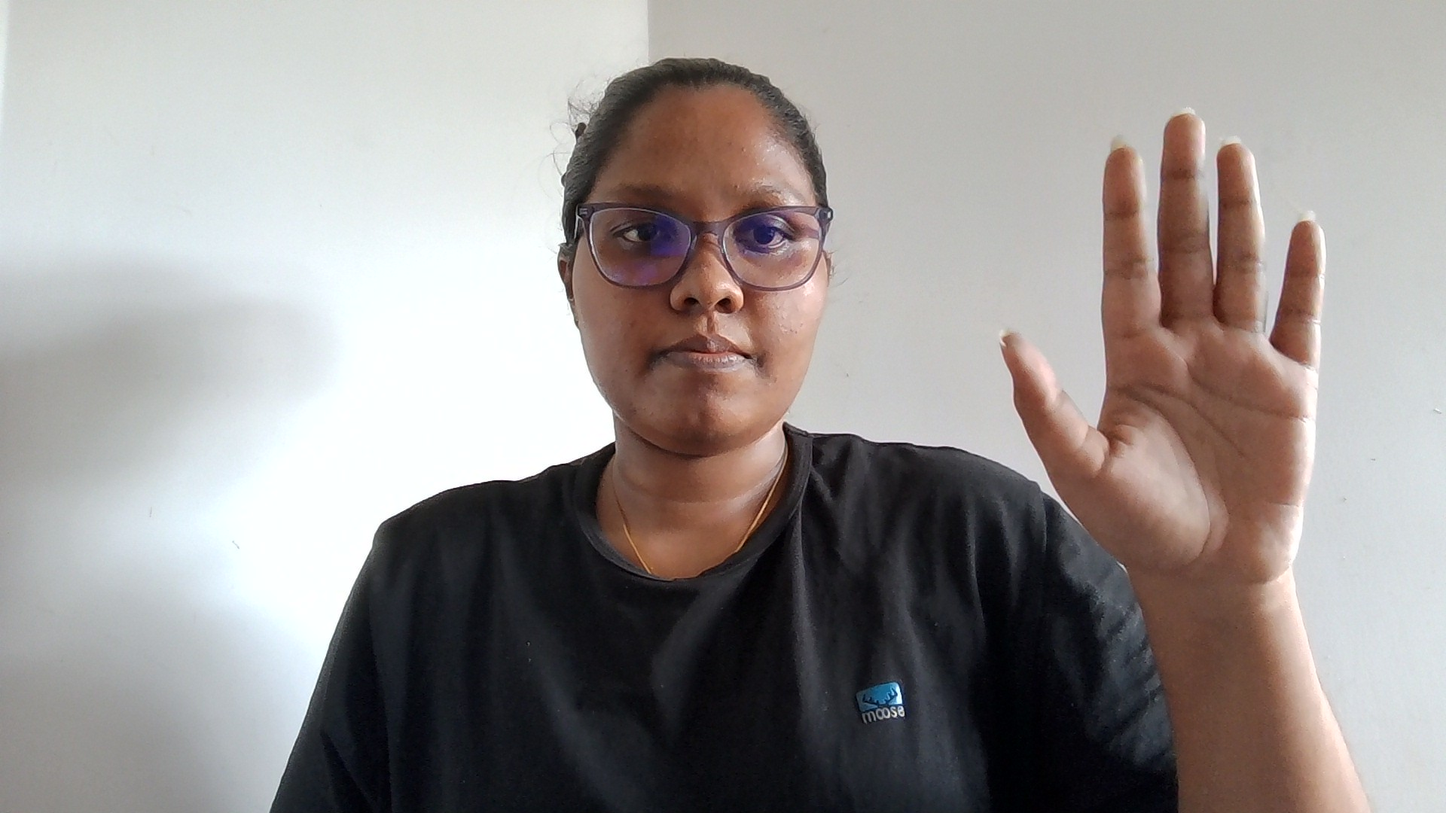Hello: (1002, 68, 1332, 641)
